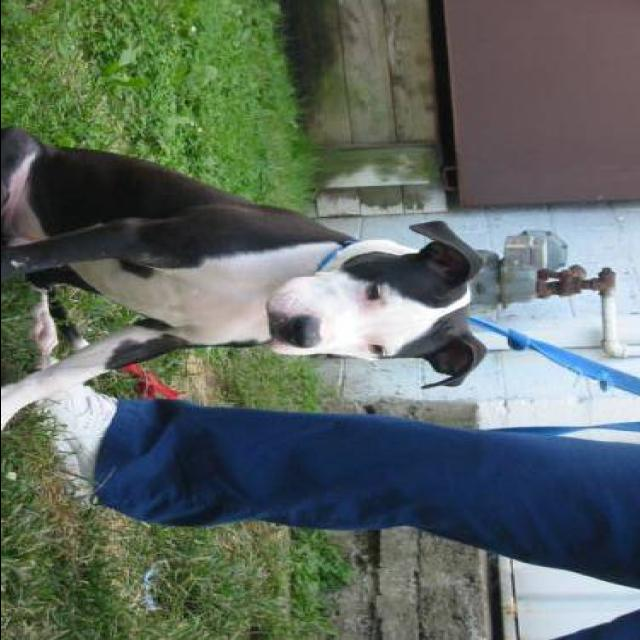dog: (0, 116, 516, 438)
